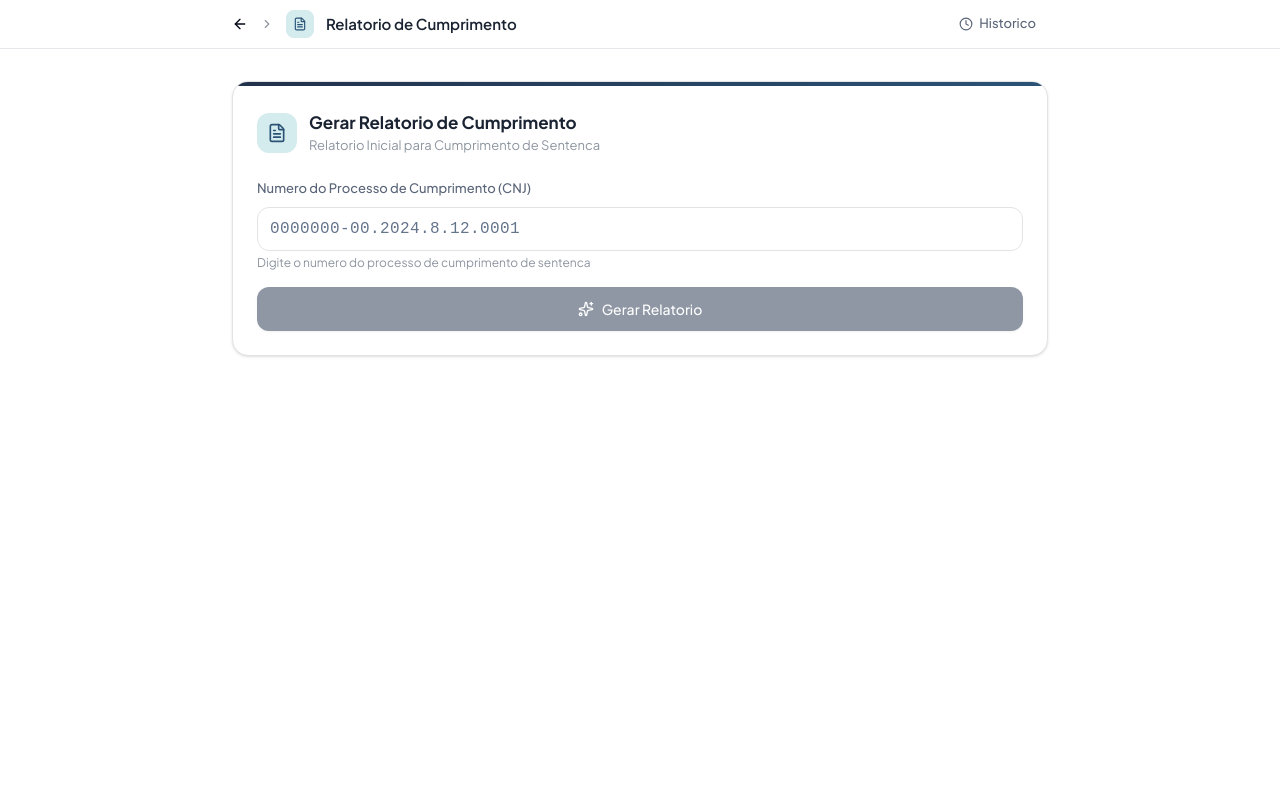
RelatorioCumprimentoPage › deve exibir drawer de historico vazio com mensagem apropriada
Note: Abre o drawer de historico
Click the button "Historico" at (998, 24), box top-left (947, 8), bottom-right (1048, 40)
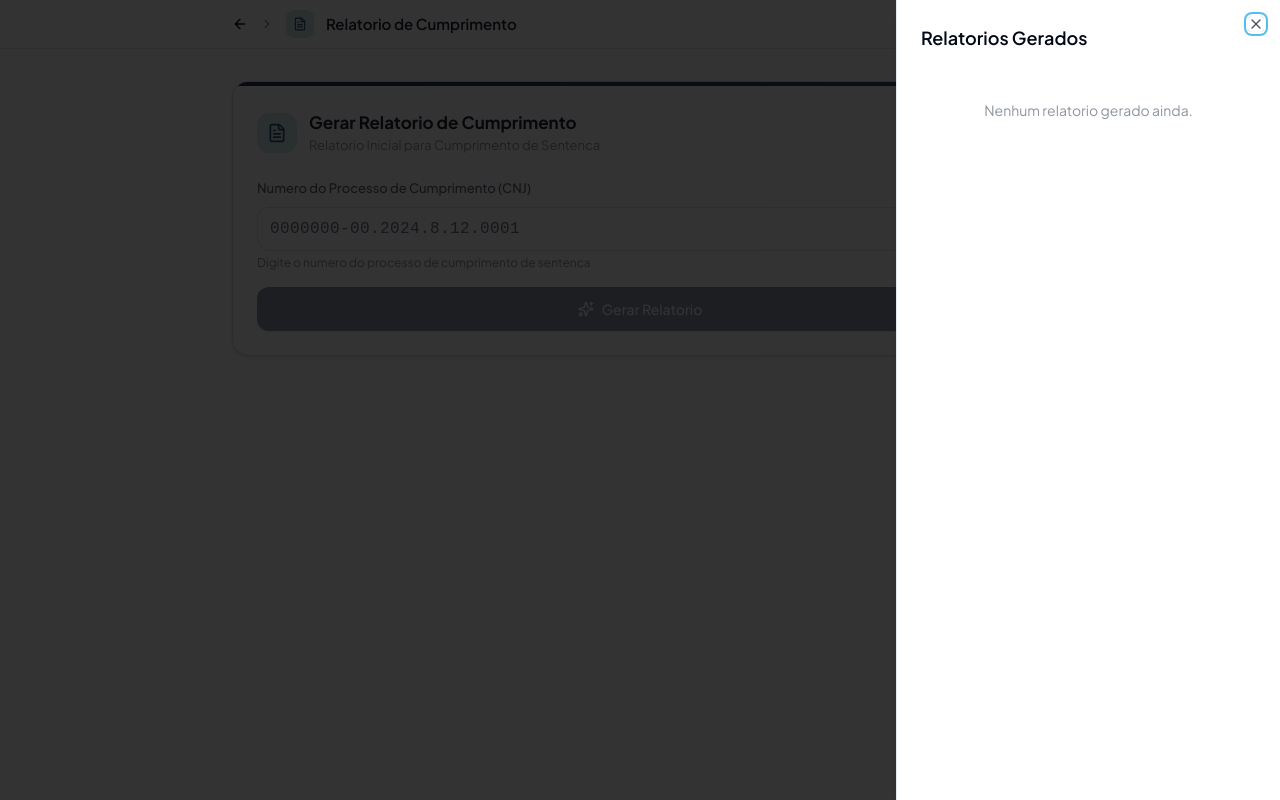
Check: the text "Nenhum relatorio gerado ainda." is shown, box top-left (984, 101), bottom-right (1193, 119)
